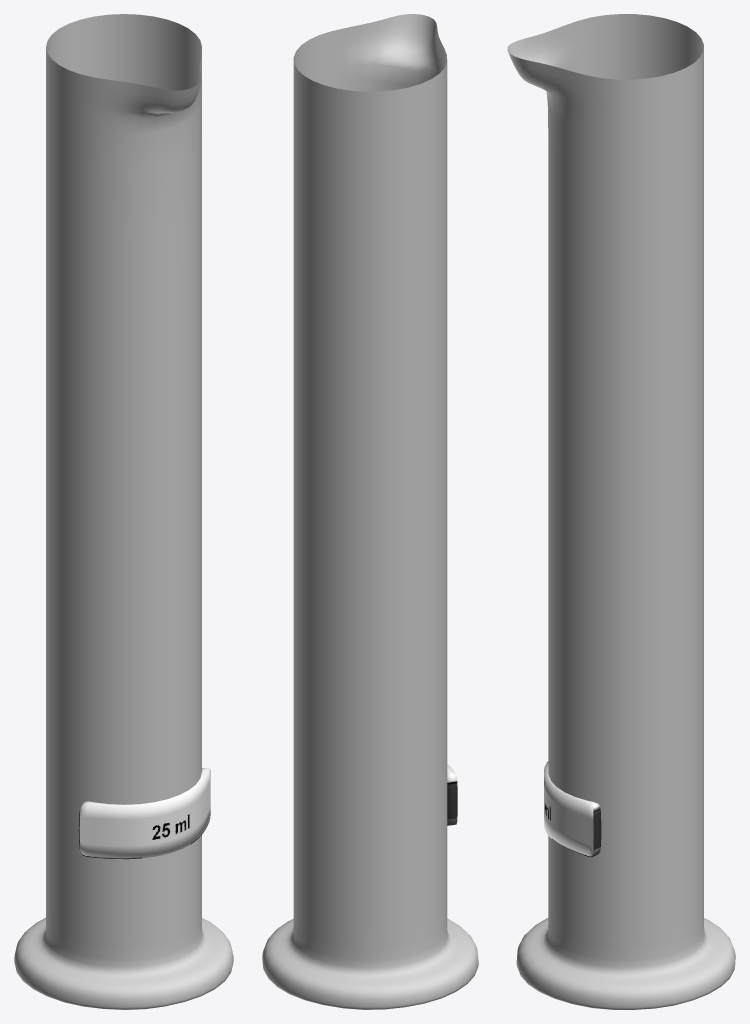
Rendered from Gelas ukur 25.fbx.
3 renders of one model, left to right at view 1: azimuth 30°, elevation 25°; view 2: azimuth 150°, elevation 25°; view 3: azimuth 270°, elevation 25°, orthographic.
Visible parts, largest first — view 1: Cube.065, Cube.103; view 2: Cube.065, Cube.103; view 3: Cube.065, Cube.103.
Boxes of the visible parts, x1,y1,x2,y2 form: Cube.065: [14, 14, 233, 1009]; Cube.103: [78, 768, 210, 859]; Cube.065: [262, 14, 478, 1009]; Cube.103: [447, 764, 457, 825]; Cube.065: [507, 14, 735, 1009]; Cube.103: [544, 761, 601, 857].
Size of the model in its own units: 1.59 by 7.36 by 1.65.
2 materials, 1 textured.
